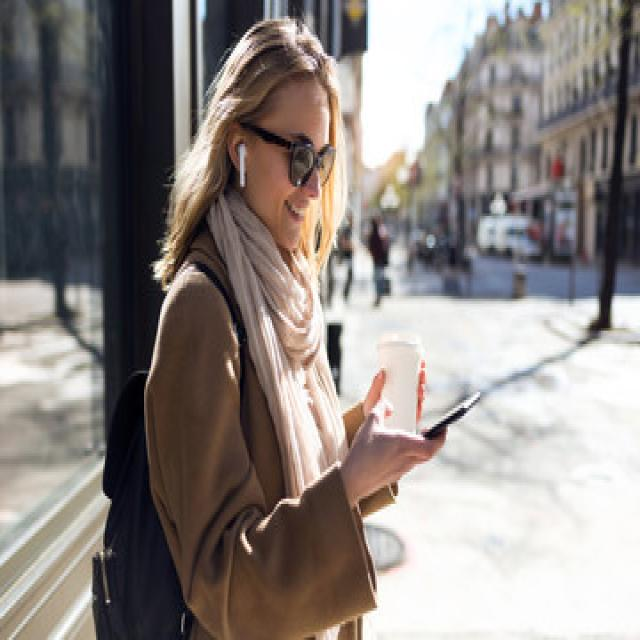airpods: (235, 138, 249, 192)
